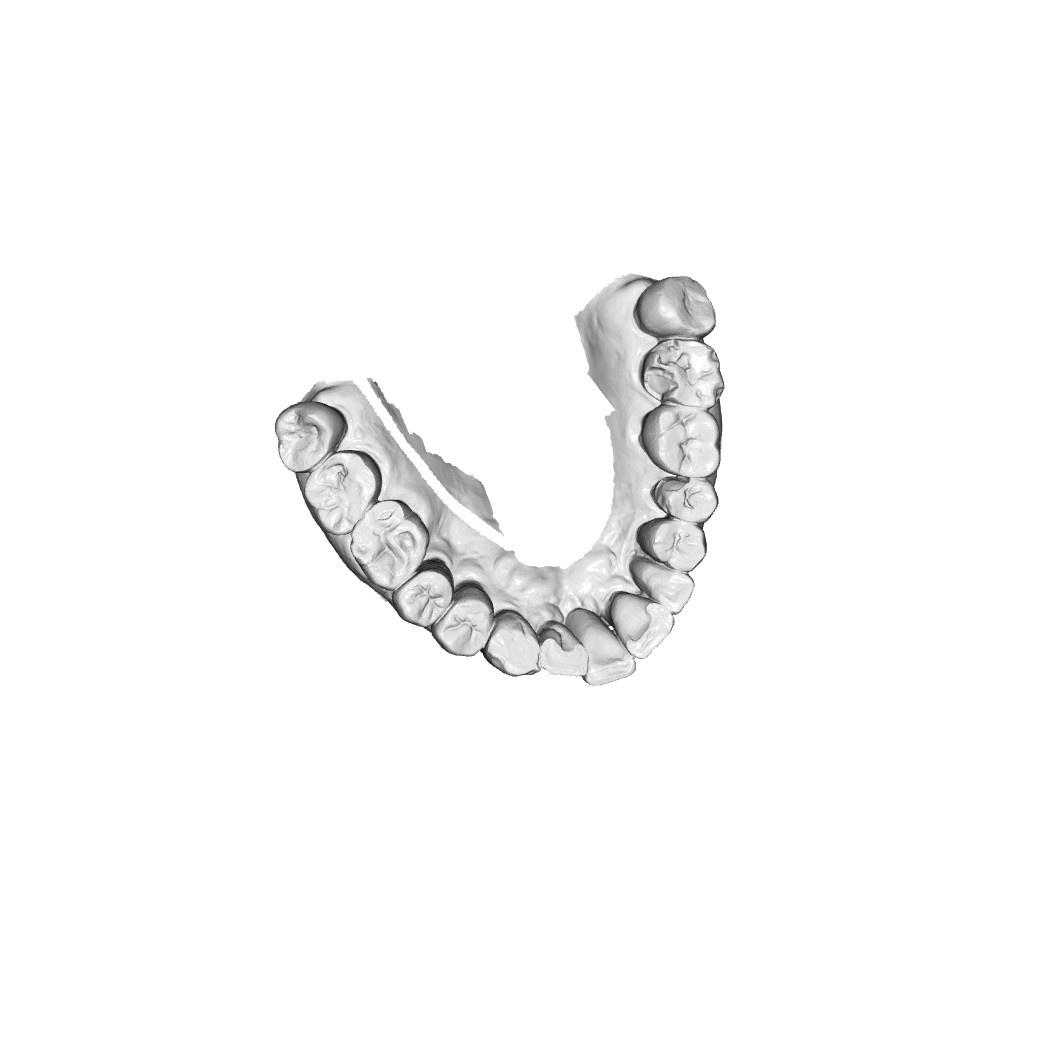canine: (630, 555, 695, 613), (485, 619, 539, 681)
incisor: (570, 612, 635, 691), (612, 594, 671, 656), (538, 622, 592, 684)
molar: (350, 503, 422, 594), (638, 404, 719, 475), (640, 337, 721, 405), (636, 269, 718, 336), (308, 457, 370, 528), (275, 405, 335, 467)
premolar: (394, 565, 455, 629), (641, 517, 708, 575), (652, 474, 720, 525), (438, 594, 490, 659)
